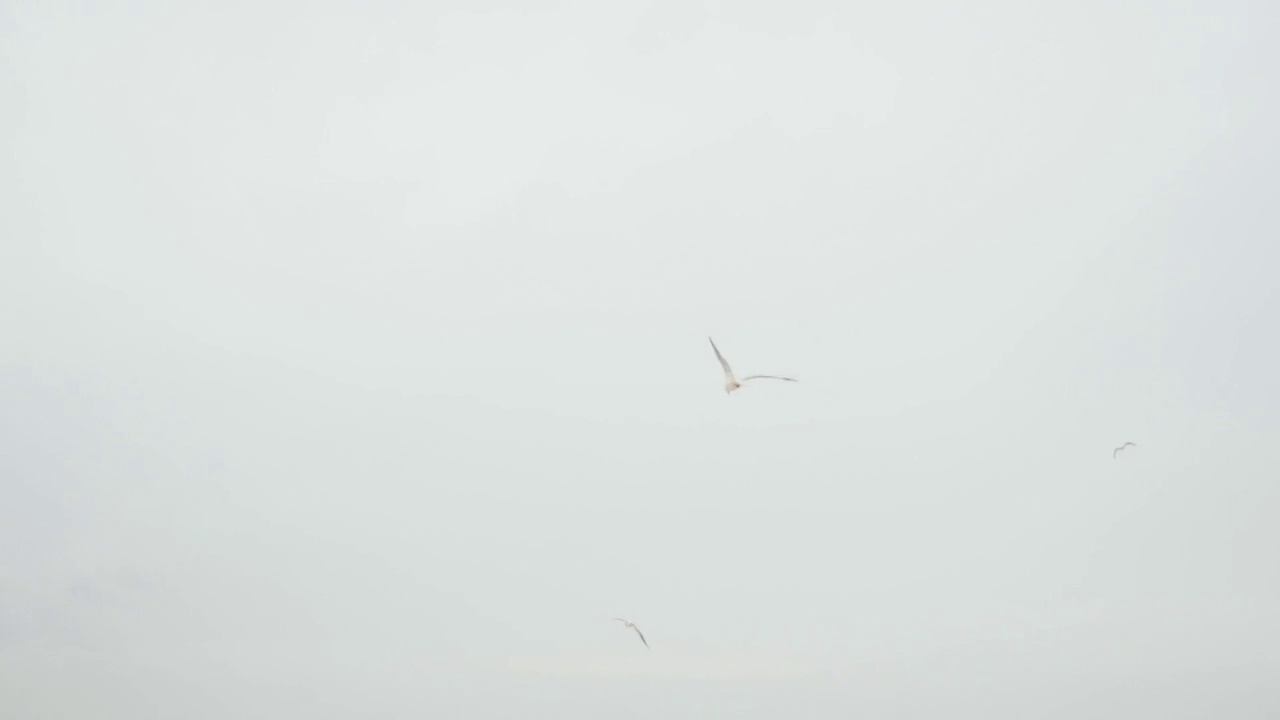bird: (707, 334, 798, 394), (609, 619, 649, 649), (1111, 442, 1138, 460)
